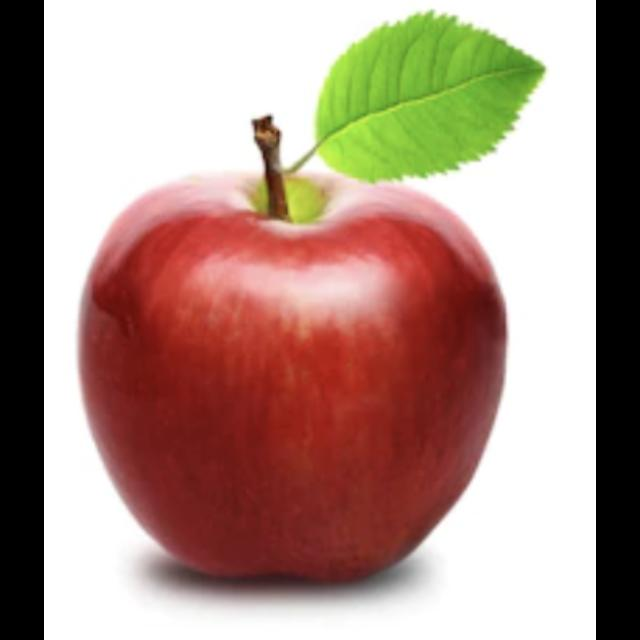Apel Segar: (64, 163, 542, 605)
